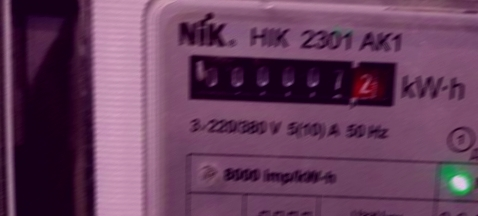0: (203, 63, 218, 88), (280, 64, 295, 88), (305, 64, 319, 88), (229, 64, 243, 87), (255, 64, 269, 87)
2: (358, 71, 372, 95)
7: (331, 66, 344, 90)
screen: (176, 41, 406, 119)
